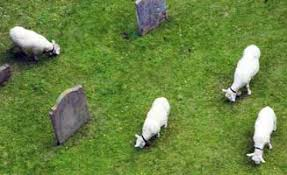sheep: (247, 106, 281, 166), (135, 98, 175, 149), (227, 44, 262, 102), (8, 23, 62, 60)
